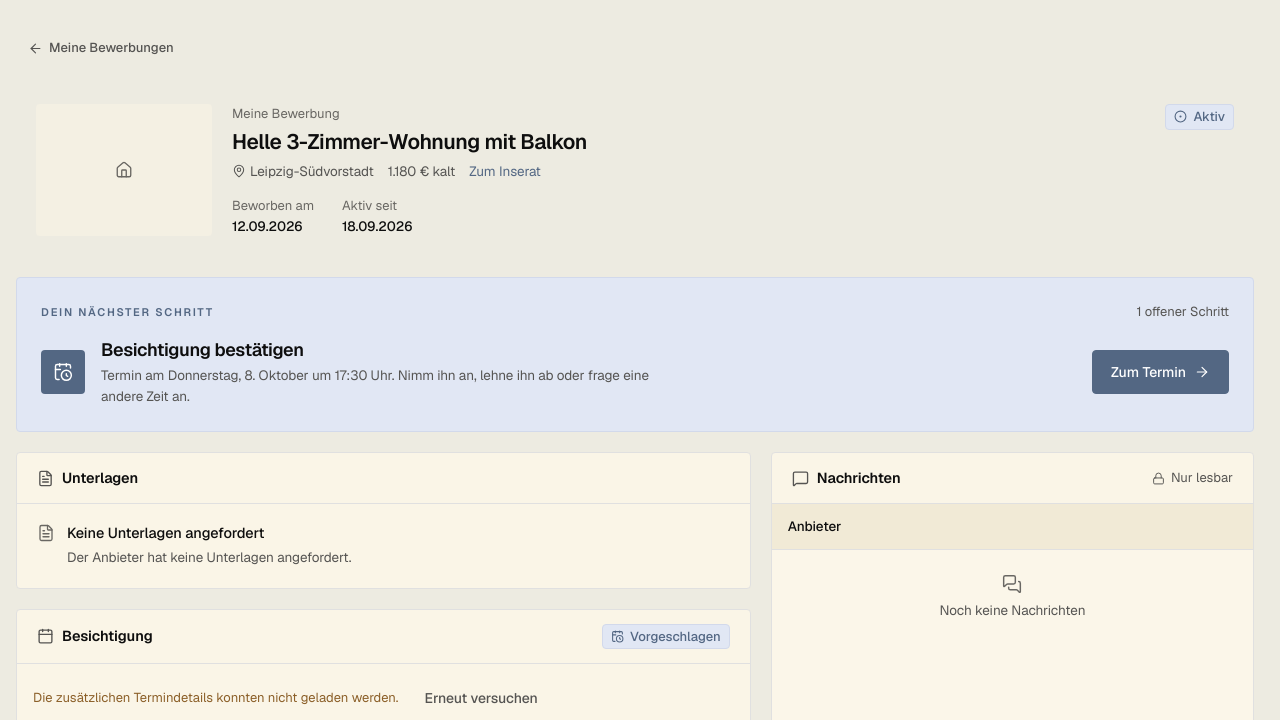
viewing detail recovery › distinguishes a failed detail load and allows retry
Expected: the text "Die zusätzlichen Termindetails konnten nicht geladen werden." is shown, [33,688,398,708]
Click the button "Erneut versuchen" at (481, 698), box [406,676,556,719]
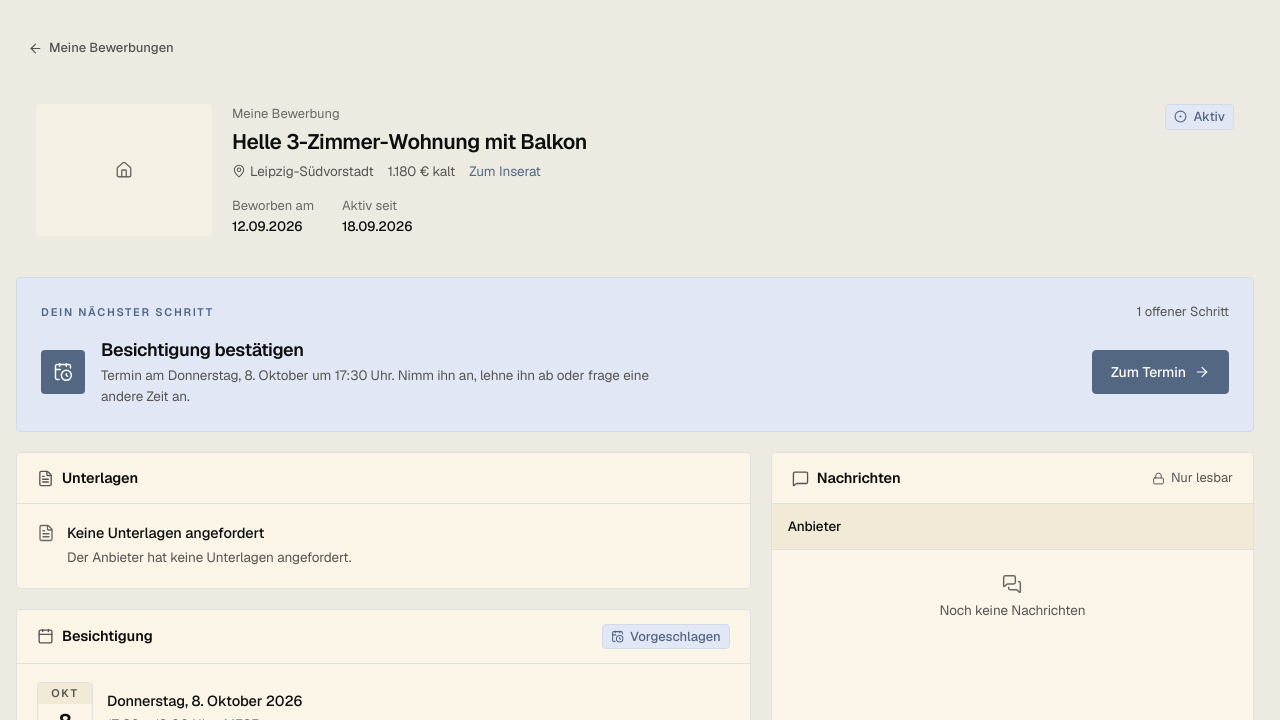
Now the text "Die zusätzlichen Termindetails konnten nicht geladen werden." is gone
